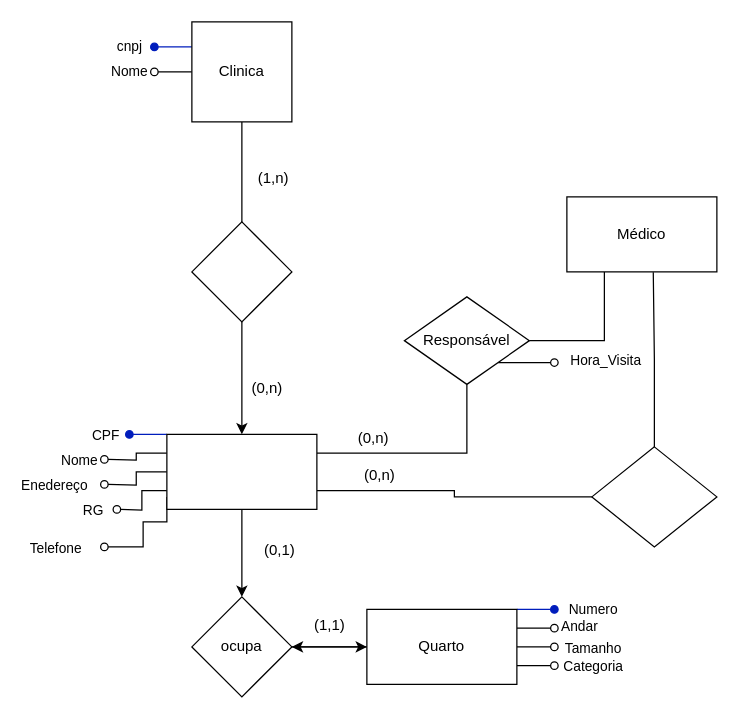
This 739x719 diagram has some shape labels left out. The centre of each missing label's shape, as x and y in pixels:
"existe/tem" belongs at (241,271).
"Pacientes" belongs at (241,471).
"Tratamento" belongs at (654,496).
